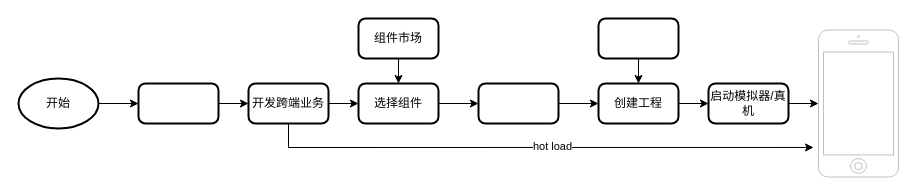
This 916x194 diagram has some shape labels left out. Here are the shapes that lost their labels. From the top down, the box of each, then its label:
(597, 17, 679, 59): 仓库
(137, 82, 219, 124): 安装插件
(477, 82, 559, 124): debug
